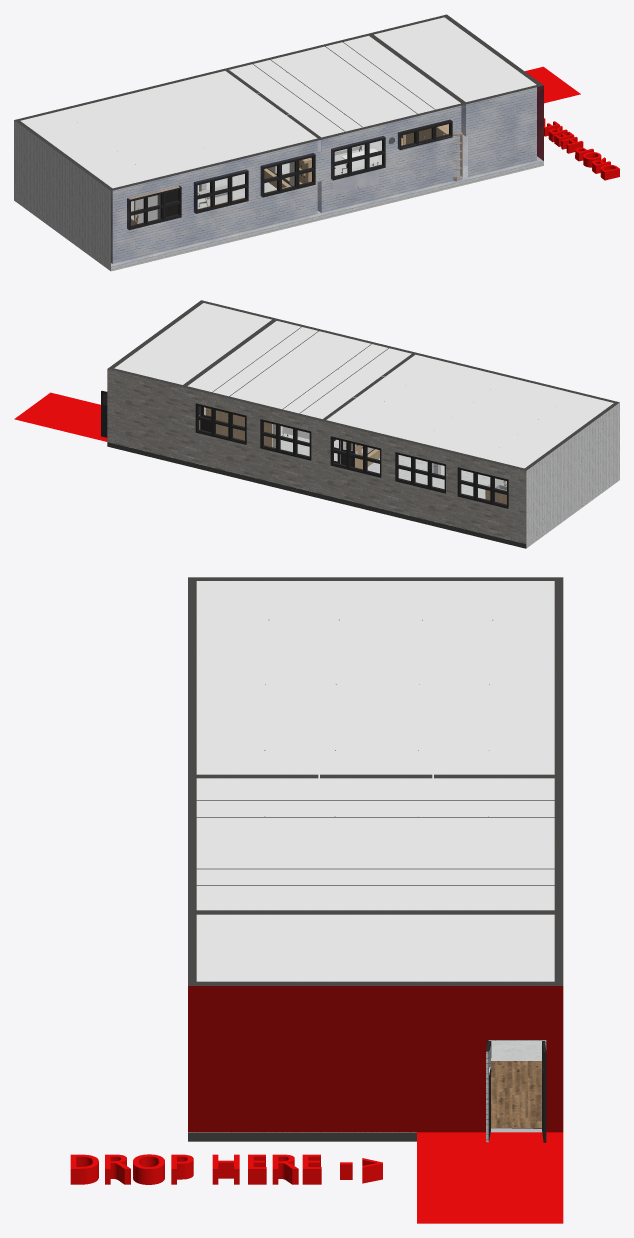
File: render.glb
3 views of the same model, one above another, from view 1: azimuth 30°, elevation 25°; view 2: azimuth 150°, elevation 25°; view 3: azimuth 270°, elevation 25° (orthographic). The views are drawn at different scales.
Visible parts, largest first — view 1: mesh-4, mesh-1, mesh-28, mesh-7, mesh-16, mesh-24, mesh-0, mesh-17; view 2: mesh-4, mesh-22, mesh-1, mesh-16, mesh-7, mesh-24, mesh-0; view 3: mesh-4, mesh-16, mesh-29, mesh-24.
Part boxes in pixels (box(x1,y1,x2,y2)): mesh-4: box(20, 17, 619, 224); mesh-1: box(14, 87, 543, 271); mesh-28: box(111, 86, 543, 266); mesh-7: box(127, 119, 452, 230); mesh-16: box(14, 14, 543, 218); mesh-24: box(111, 140, 538, 266); mesh-0: box(128, 124, 462, 225); mesh-17: box(333, 170, 378, 194); mesh-4: box(14, 303, 613, 495); mesh-22: box(107, 369, 526, 543); mesh-1: box(199, 402, 619, 548); mesh-16: box(107, 300, 619, 548); mesh-7: box(101, 390, 508, 508); mesh-24: box(272, 424, 496, 498); mesh-0: box(199, 406, 506, 504); mesh-4: box(70, 581, 563, 1223); mesh-16: box(188, 577, 563, 1141); mesh-29: box(491, 1061, 541, 1127); mesh-24: box(491, 1041, 541, 1060).
Size of the model in its own units: 24.15 by 3.61 by 10.06.
Materials: 53 (53 with a texture image).
